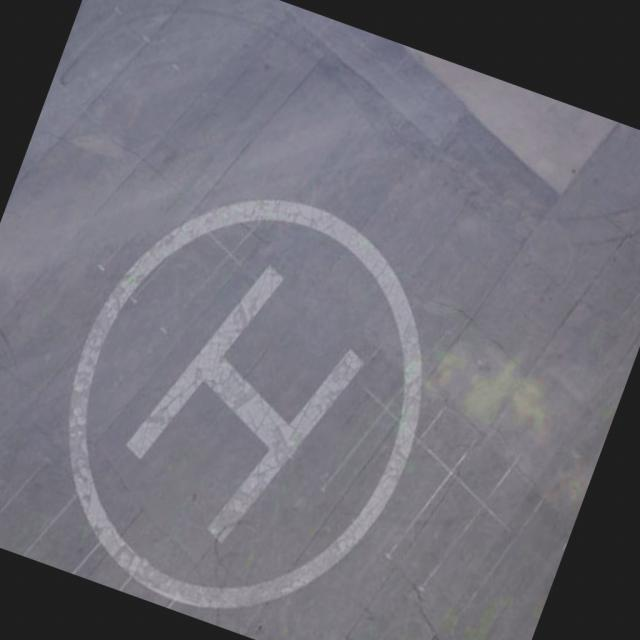helipad: (59, 194, 425, 614)
